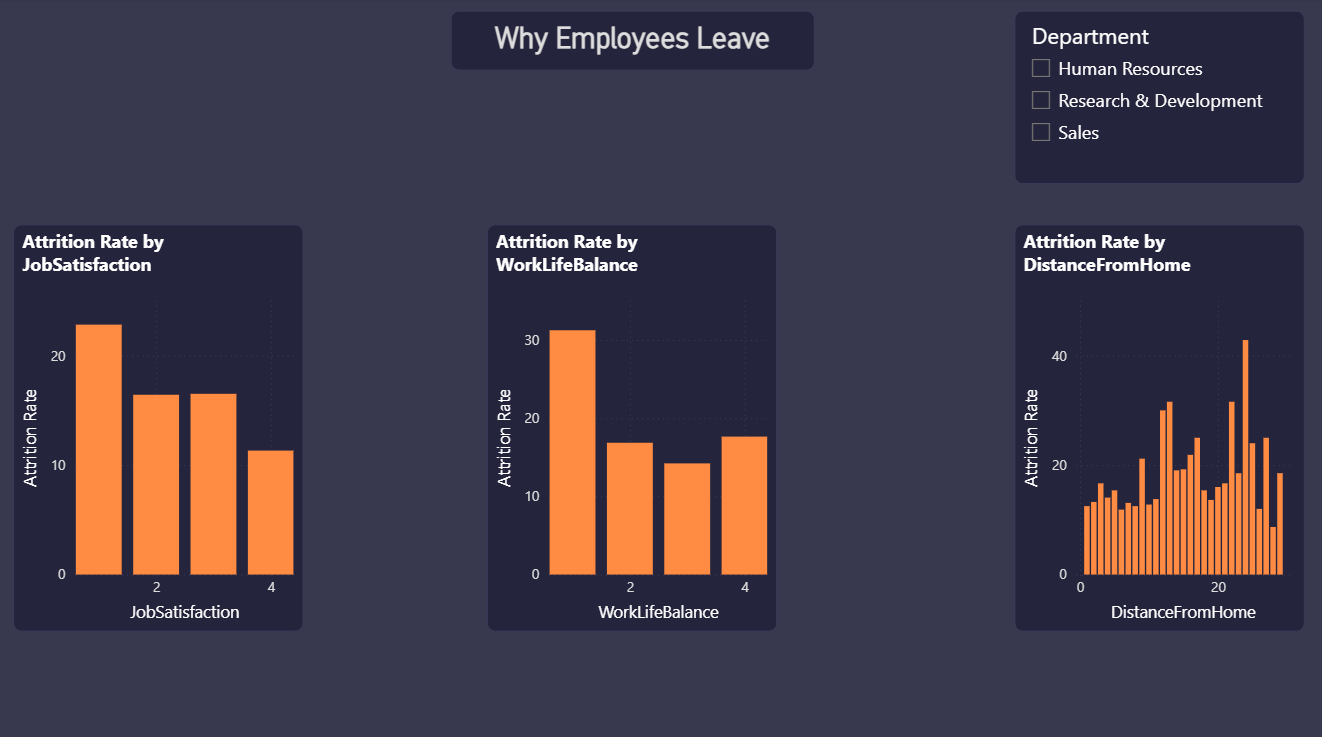

What the dashboard file says about the page in this screenshot:
{"tool":"powerbi","page":{"name":"Why They Leave","canvas":[1280,720],"ordinal":1},"visuals":[{"type":"clusteredColumnChart","fields":{"Category":["WA_Fn-UseC_-HR-Employee-Attrition.JobSatisfaction"],"Y":["WA_Fn-UseC_-HR-Employee-Attrition.Attrition Rate"]},"box":[15.1,219.6,279.9,392.5],"z":0},{"type":"clusteredColumnChart","fields":{"Category":["WA_Fn-UseC_-HR-Employee-Attrition.WorkLifeBalance"],"Y":["WA_Fn-UseC_-HR-Employee-Attrition.Attrition Rate"]},"box":[473.4,219.6,279.9,392.5],"z":1000},{"type":"clusteredColumnChart","fields":{"Category":["WA_Fn-UseC_-HR-Employee-Attrition.DistanceFromHome"],"Y":["WA_Fn-UseC_-HR-Employee-Attrition.Attrition Rate"]},"box":[982.5,219.6,279.9,392.5],"z":2000},{"type":"slicer","fields":{"Values":["WA_Fn-UseC_-HR-Employee-Attrition.Department"]},"box":[982.5,13.7,279.9,167.4],"z":2001},{"type":"textbox","box":[437.7,13.7,351.3,57.6],"z":2002}]}

Visuals, with their boxes in screenshot pixels (x1, y1, x2, y2), scaled from the page's 1280x720 canvas onto the 1322x737 screenshot:
clusteredColumnChart - WA_Fn-UseC_-HR-Employee-Attrition.JobSatisfaction x WA_Fn-UseC_-HR-Employee-Attrition.Attrition Rate: <region>16, 225, 305, 627</region>
clusteredColumnChart - WA_Fn-UseC_-HR-Employee-Attrition.WorkLifeBalance x WA_Fn-UseC_-HR-Employee-Attrition.Attrition Rate: <region>489, 225, 778, 627</region>
clusteredColumnChart - WA_Fn-UseC_-HR-Employee-Attrition.DistanceFromHome x WA_Fn-UseC_-HR-Employee-Attrition.Attrition Rate: <region>1015, 225, 1304, 627</region>
slicer - WA_Fn-UseC_-HR-Employee-Attrition.Department: <region>1015, 14, 1304, 185</region>
textbox: <region>452, 14, 815, 73</region>
